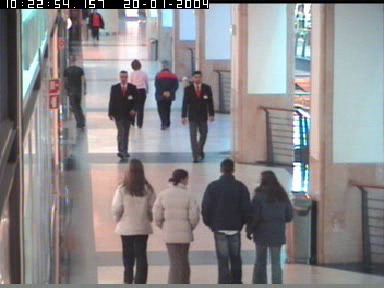person: (200, 157, 251, 284), (112, 158, 161, 284), (152, 166, 200, 284), (247, 170, 293, 284), (181, 70, 215, 161), (108, 70, 141, 158), (153, 59, 179, 128), (62, 54, 86, 127), (129, 59, 148, 128), (87, 8, 104, 40), (67, 16, 73, 53)
